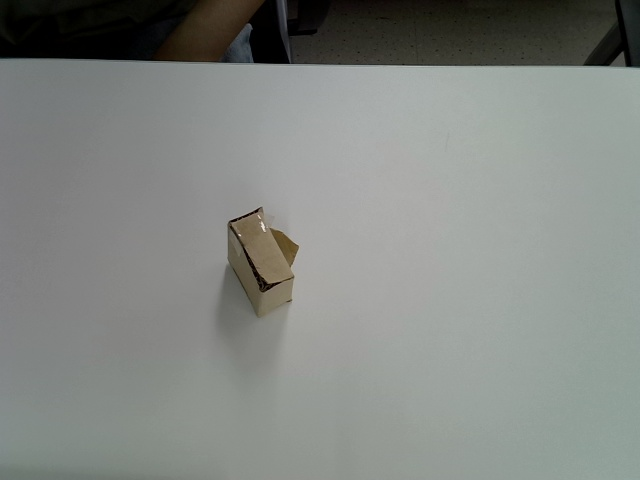defect: (225, 208, 302, 318)
